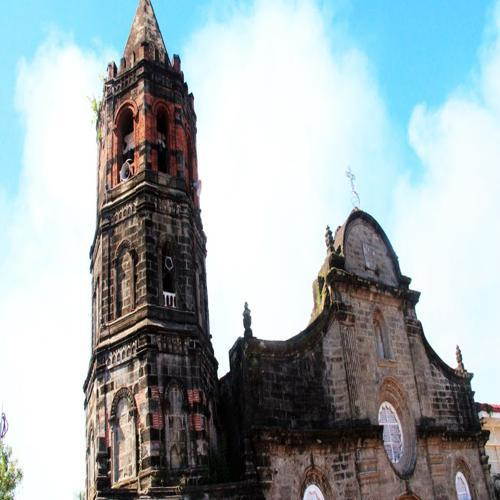Barasoain Church: (80, 1, 499, 500)
